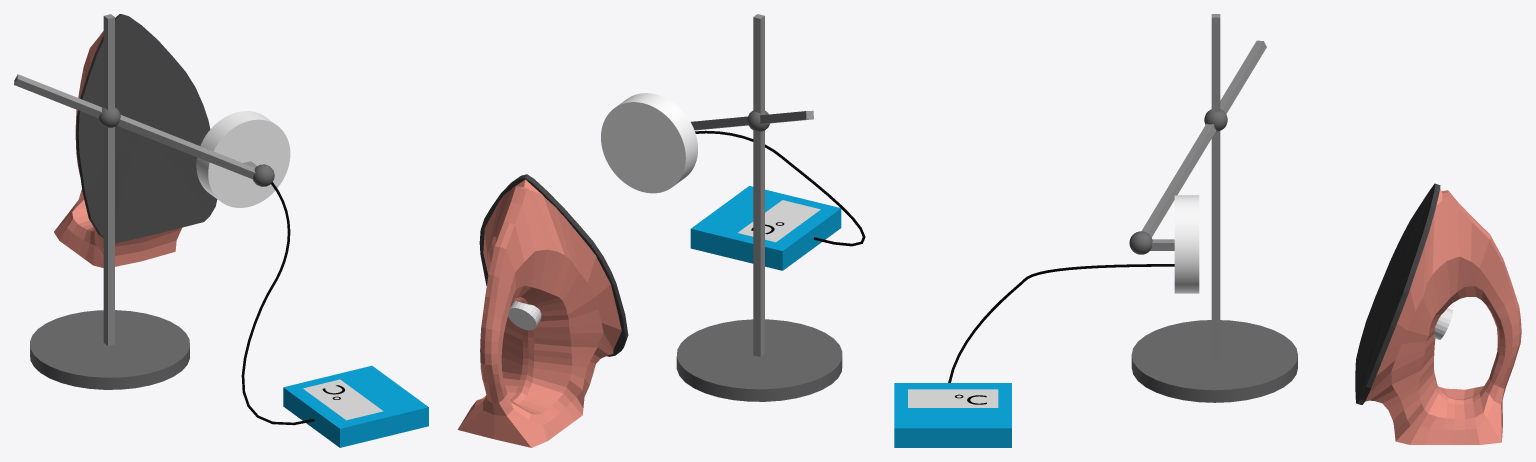
The model's file is bakc.glb.
The picture shows the model from 3 angles, left to right: view 1: azimuth 30°, elevation 25°; view 2: azimuth 150°, elevation 25°; view 3: azimuth 270°, elevation 25°; orthographic projection. The views are drawn at different scales.
Visible parts, largest first — view 1: IronPlate, Holder2.001, Thermometer, Target, IronBody, Holder2.002, Holder2.004, Thermometer2, Wire; view 2: IronBody, Holder2.001, Target, Thermometer, Holder2.002, IronPlate, Thermometer2, Holder2.004, Wire, IronKnob; view 3: IronBody, Holder2.001, Thermometer, IronPlate, Holder2.002, Holder2.004, Target, Thermometer2, Wire.
Boxes of the visible parts, x1=… form: IronPlate: x1=76, y1=14, x2=217, y2=243; Holder2.001: x1=30, y1=310, x2=189, y2=389; Thermometer: x1=283, y1=365, x2=428, y2=447; Target: x1=196, y1=111, x2=290, y2=207; IronBody: x1=54, y1=31, x2=181, y2=267; Holder2.002: x1=103, y1=14, x2=114, y2=345; Holder2.004: x1=14, y1=74, x2=255, y2=179; Thermometer2: x1=303, y1=379, x2=383, y2=420; Wire: x1=241, y1=182, x2=314, y2=425; IronBody: x1=457, y1=179, x2=621, y2=447; Holder2.001: x1=676, y1=319, x2=842, y2=401; Target: x1=601, y1=93, x2=697, y2=193; Thermometer: x1=690, y1=186, x2=841, y2=270; Holder2.002: x1=753, y1=14, x2=764, y2=356; IronPlate: x1=479, y1=174, x2=628, y2=356; Thermometer2: x1=738, y1=200, x2=820, y2=242; Holder2.004: x1=691, y1=110, x2=813, y2=130; Wire: x1=695, y1=130, x2=865, y2=246; IronKnob: x1=508, y1=300, x2=541, y2=330; IronBody: x1=1365, y1=188, x2=1521, y2=444; Holder2.001: x1=1131, y1=320, x2=1297, y2=402; Thermometer: x1=894, y1=383, x2=1011, y2=447; IronPlate: x1=1355, y1=183, x2=1440, y2=404; Holder2.002: x1=1211, y1=14, x2=1220, y2=356; Holder2.004: x1=1141, y1=40, x2=1266, y2=237; Target: x1=1174, y1=195, x2=1199, y2=293; Thermometer2: x1=908, y1=389, x2=998, y2=407; Wire: x1=948, y1=264, x2=1174, y2=382.
Bounding box in the file's own units: 2.27 × 2.84 × 4.59.
